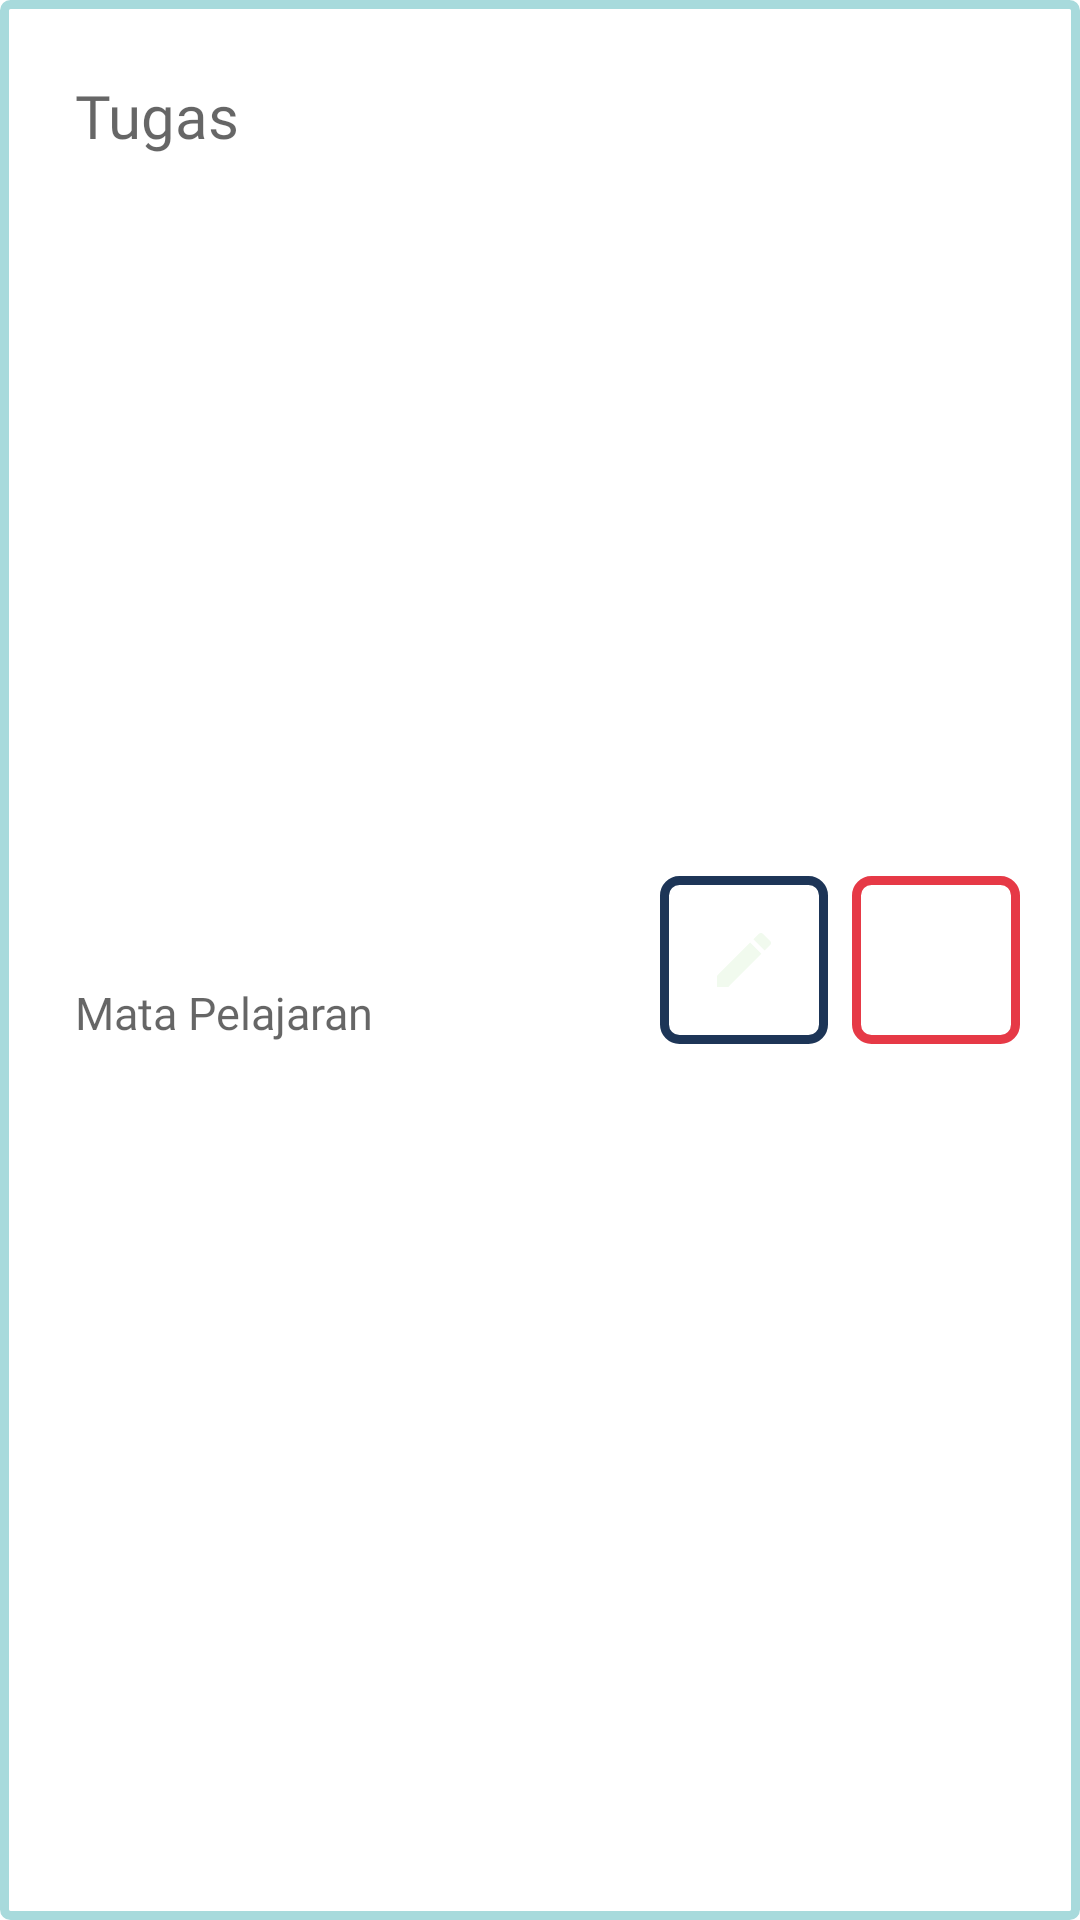

Where icons sit on this 1080px x 1920px app screen, as [x1, y1, x2, y2]:
edit: [660, 876, 828, 1044]
